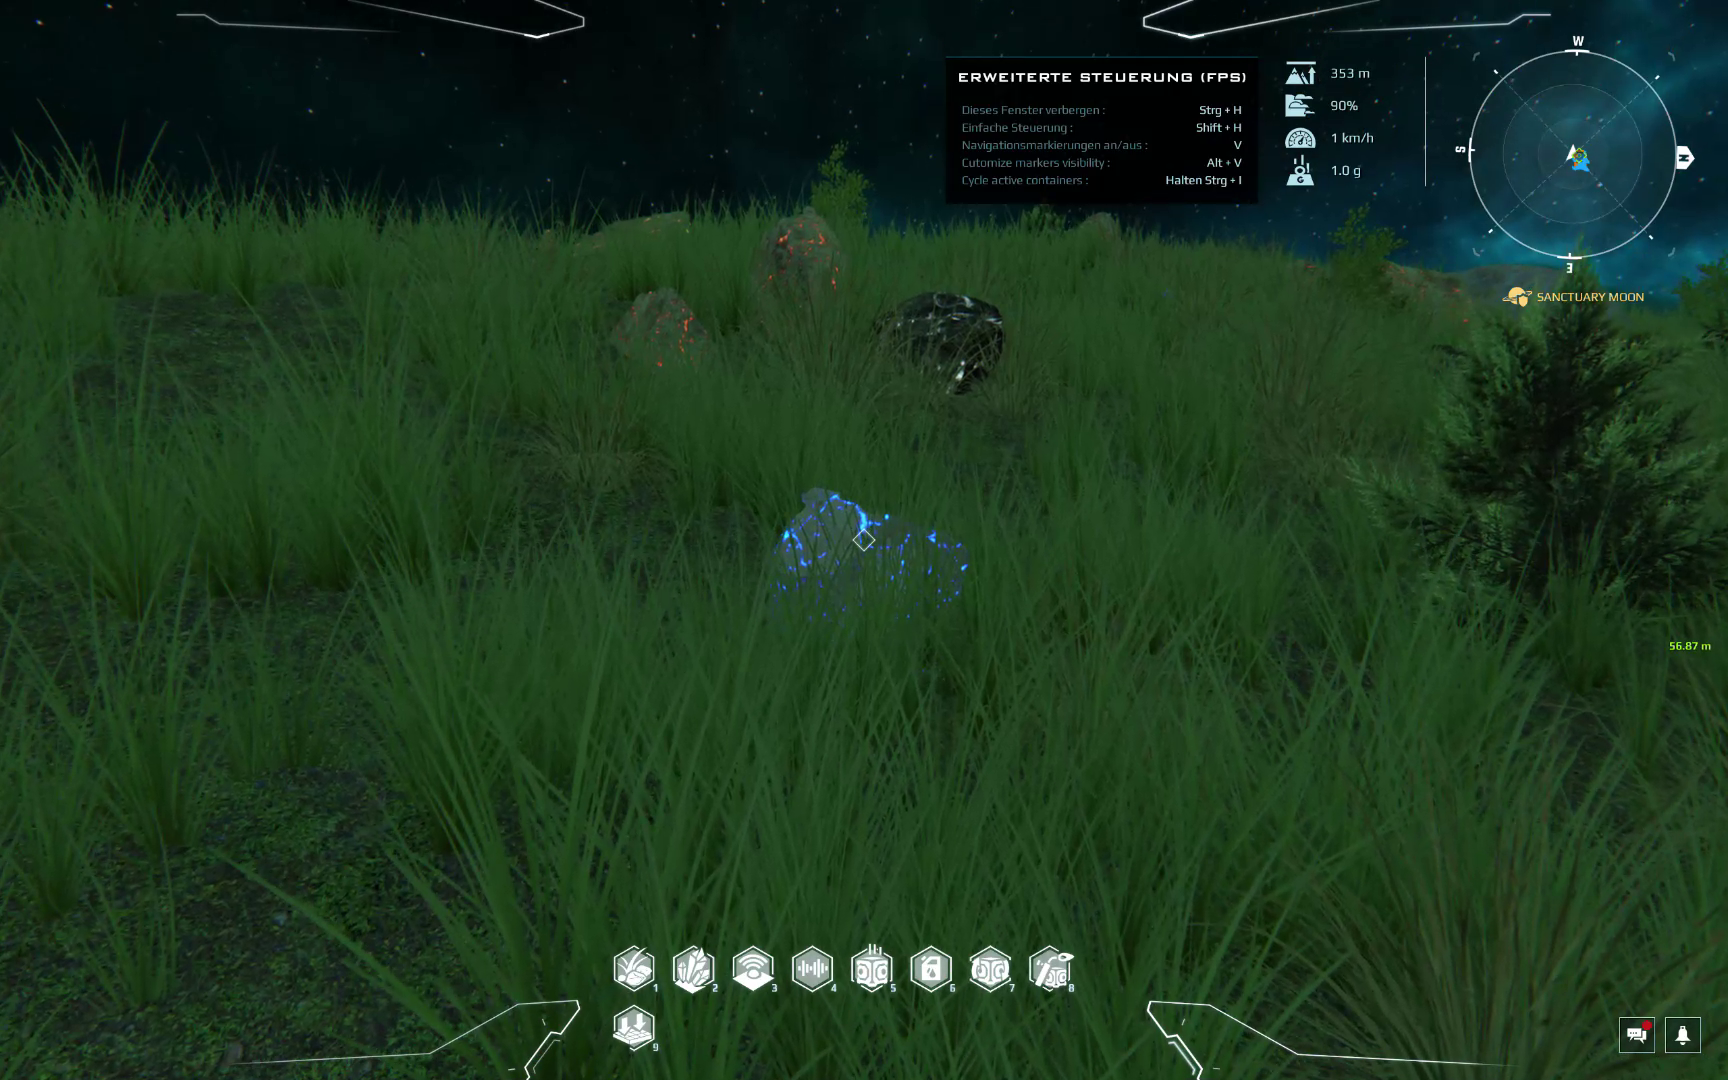Ore: (758, 482, 985, 653), (1298, 249, 1480, 338), (872, 287, 1008, 399), (756, 207, 847, 324), (605, 285, 709, 378), (570, 204, 688, 263)
